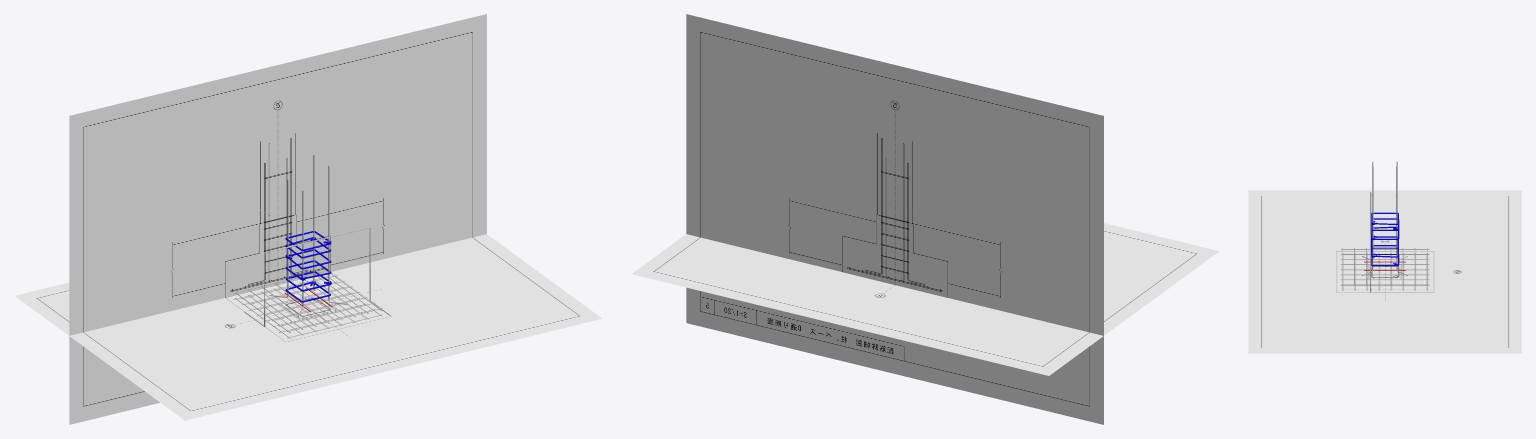
The picture shows the model from 3 angles, left to right: view 1: azimuth 30°, elevation 25°; view 2: azimuth 150°, elevation 25°; view 3: azimuth 270°, elevation 25°; orthographic projection. The views are drawn at different scales.
Parts seen in each view (by area): view 1: 平面.001_平面.003, 平面_平面.001, 1360.012_01.014; view 2: 平面.001_平面.003, 平面_平面.001; view 3: 平面_平面.001, 1360.012_01.014.
Boxes of the visible parts, bbox=[...] form: 平面.001_平面.003: bbox=[69, 14, 486, 424]; 平面_平面.001: bbox=[14, 234, 602, 420]; 1360.012_01.014: bbox=[234, 269, 382, 333]; 平面.001_平面.003: bbox=[686, 14, 1103, 424]; 平面_平面.001: bbox=[631, 223, 1219, 375]; 平面_平面.001: bbox=[1248, 190, 1521, 353]; 1360.012_01.014: bbox=[1340, 247, 1429, 285].
Size of the model in its own units: 5940 by 4200 by 4200.
